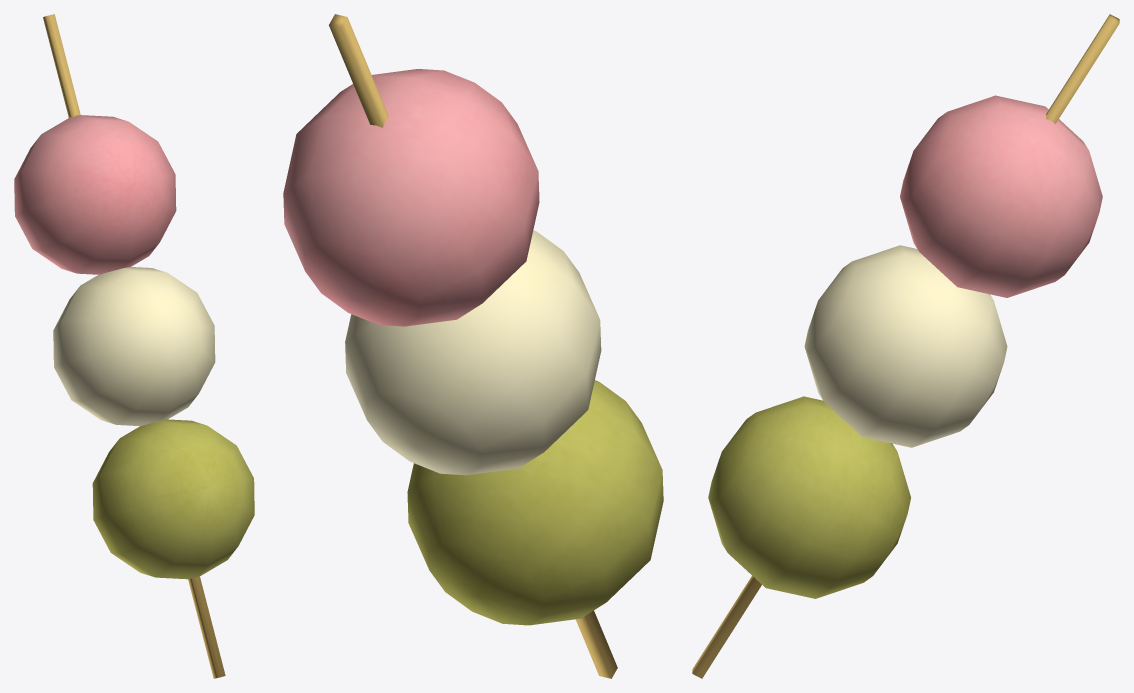
Rendered from Dumpling.gltf.
3 views of the same model, side by side, from view 1: azimuth 30°, elevation 25°; view 2: azimuth 150°, elevation 25°; view 3: azimuth 270°, elevation 25° (orthographic). The views are drawn at different scales.
Visible parts, largest first — view 1: Dumpling_Model; view 2: Dumpling_Model; view 3: Dumpling_Model.
Boxes of the visible parts, x1,y1,x2,y2 form: Dumpling_Model: [14, 14, 254, 678]; Dumpling_Model: [283, 14, 663, 678]; Dumpling_Model: [692, 14, 1119, 678].
Size of the model in its own units: 0.9097 by 3.26 by 1.91.
1 material, 1 textured.
